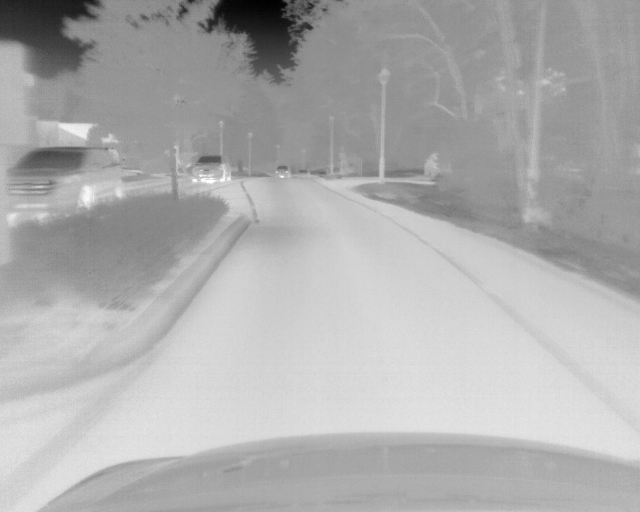car: (2, 143, 126, 223), (190, 154, 231, 184), (274, 165, 291, 179)
